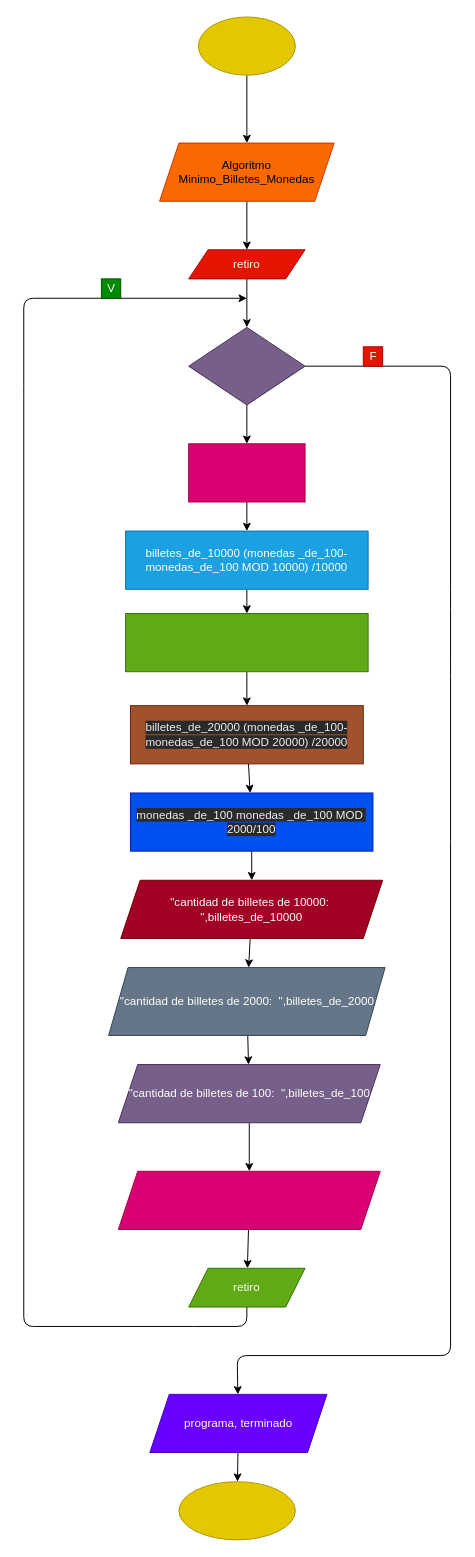
The diagram is 475 pixels wide and 1557 high, and some of its shapes have lost their labels. Here are the shapes that lost their labels. From the top down, the centre of each, then its label:
point (246, 45): inicio
point (246, 365): retiro>0
point (246, 472): monedas _de_100 retiro
point (246, 642): monedas _de_100 monedas _de_100 MOD 10000
point (248, 1199): " ingrese el valor a retirar en multiplos de 100 (cero para salir): "
point (236, 1510): Fin
